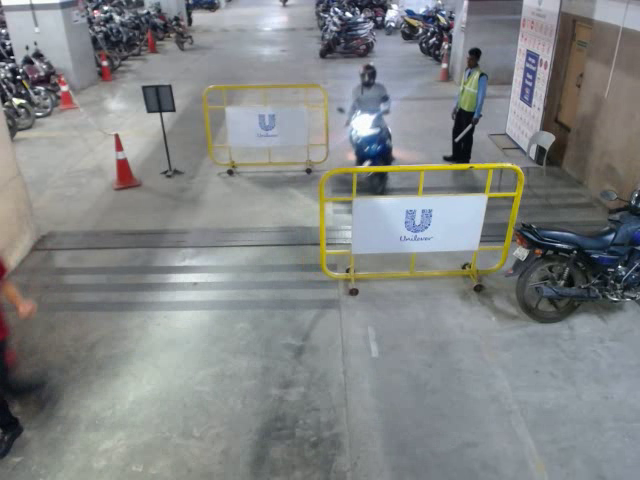with_helmet: (358, 63, 377, 89)
